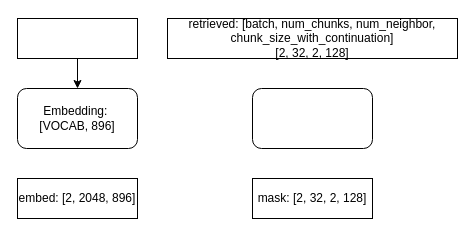
This 475x236 diagram has some shape labels left out. Here are the shapes that lost their labels. From the top down, the box of each, then its label:
(16, 18, 138, 58): seq: [batch, seq_len] [2, 2048]
(252, 88, 372, 148): != pad_id
